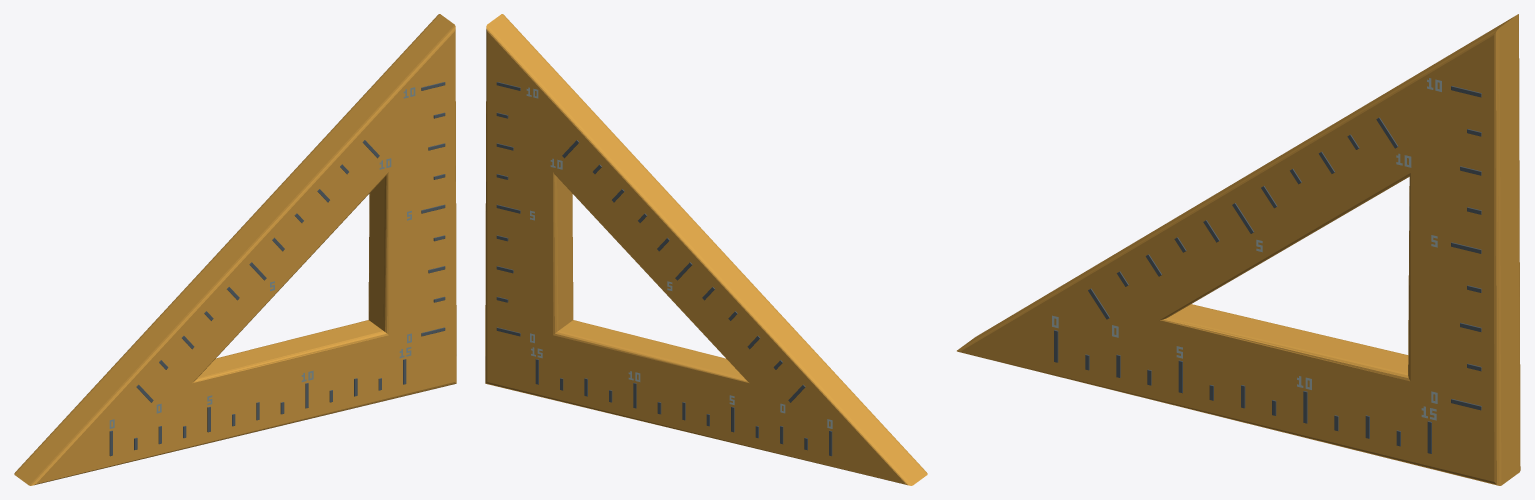
Rendered from workshop-triangle-aligned-numbers.glb.
3 views of the same model, side by side, from view 1: azimuth 30°, elevation 25°; view 2: azimuth 150°, elevation 25°; view 3: azimuth 330°, elevation 25° (orthographic). The views are drawn at different scales.
Parts seen in each view (by area): view 1: brass, steelInset; view 2: brass, steelInset; view 3: brass, steelInset.
Part boxes in pixels (x1,y1,x2,y2): brass: (14, 14, 456, 485); steelInset: (109, 82, 445, 456); brass: (485, 14, 927, 485); steelInset: (496, 82, 832, 456); brass: (957, 14, 1520, 485); steelInset: (1054, 86, 1481, 453).
Size of the model in its own units: 0.3058 by 0.2457 by 0.0251.
